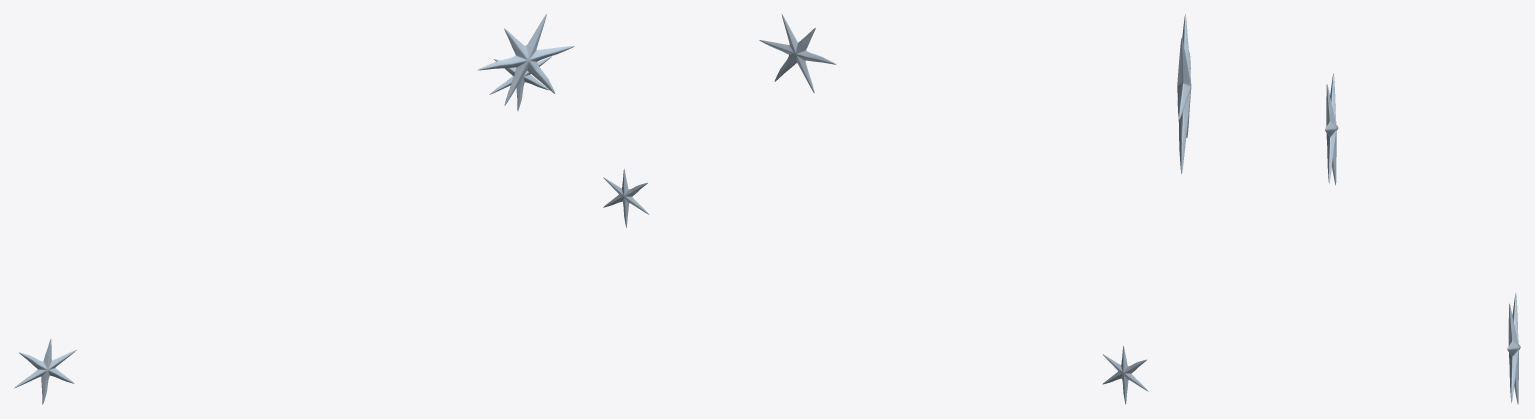
Rendered from star.fbx.
3 renders of one model, left to right at view 1: azimuth 30°, elevation 25°; view 2: azimuth 150°, elevation 25°; view 3: azimuth 270°, elevation 25°, orthographic. The views are drawn at different scales.
Parts seen in each view (by area): view 1: Circle.013, Circle.009, Circle.020; view 2: Circle.013, Circle.009, Circle.020; view 3: Circle.013, Circle.009, Circle.020.
Boxes of the visible parts, box(x1,y1,x2,y2) form: Circle.013: box(477, 14, 574, 105); Circle.009: box(14, 339, 76, 404); Circle.020: box(489, 45, 551, 111); Circle.013: box(759, 14, 836, 93); Circle.009: box(1102, 345, 1148, 404); Circle.020: box(603, 169, 649, 227); Circle.013: box(1177, 14, 1191, 174); Circle.009: box(1325, 73, 1338, 185); Circle.020: box(1507, 293, 1520, 404).
Bounding box in the file's own units: 218 × 111 × 69.17.
